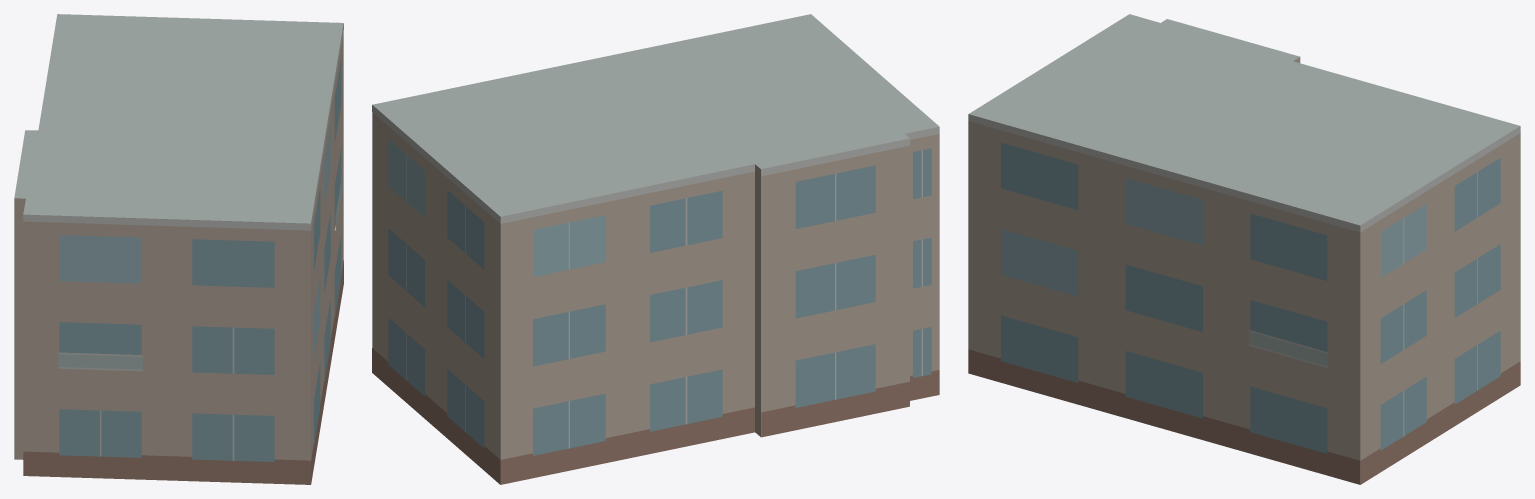
File: survey-upis-32999432.glb
3 views of the same model, side by side, from view 1: azimuth 30°, elevation 25°; view 2: azimuth 150°, elevation 25°; view 3: azimuth 270°, elevation 25° (orthographic). The views are drawn at different scales.
Visible parts, largest first — view 1: survey-upis-32999432.tmp; view 2: survey-upis-32999432.tmp; view 3: survey-upis-32999432.tmp.
Part boxes in pixels (box(x1,y1,x2,y2)): survey-upis-32999432.tmp: box(14, 14, 343, 484); survey-upis-32999432.tmp: box(372, 14, 939, 484); survey-upis-32999432.tmp: box(968, 14, 1520, 484).
Size of the model in its own units: 16.02 by 9.15 by 17.66.
